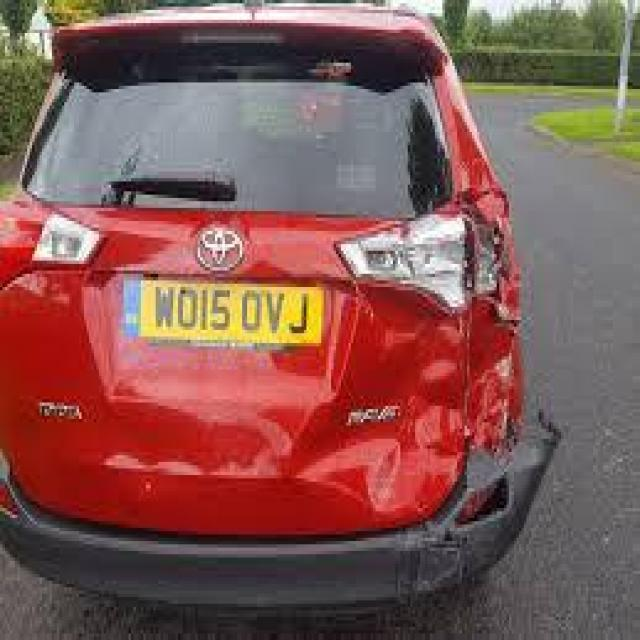damaged: (289, 198, 559, 590)
